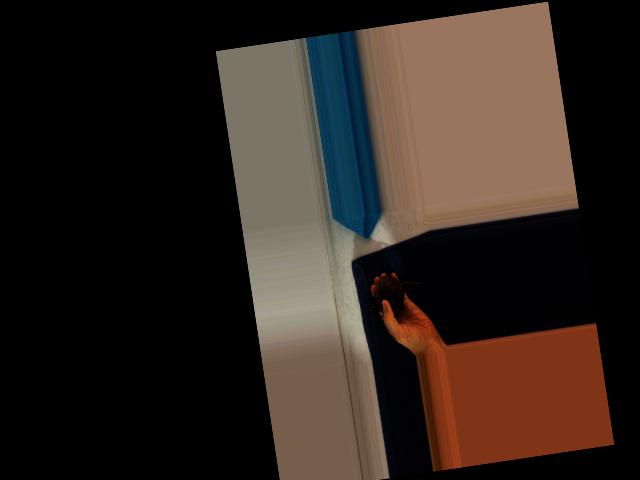beet: (367, 270, 430, 318)
